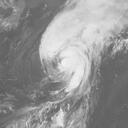cyclone: (39, 41, 99, 94)
